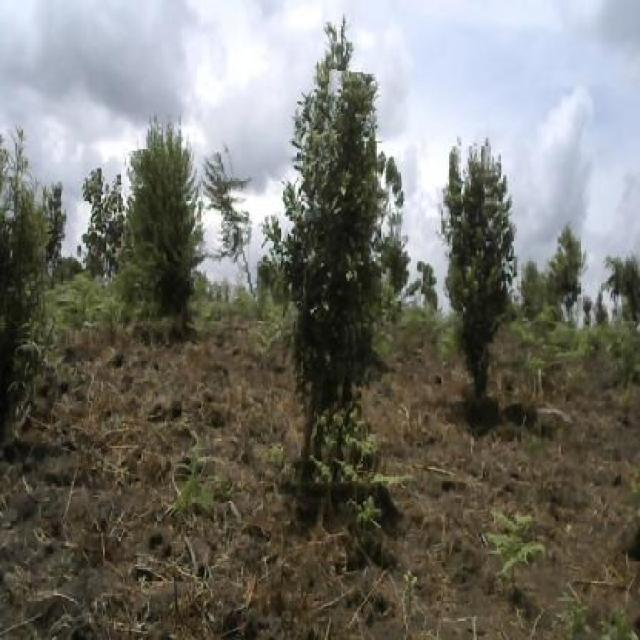tree trunk: (292, 70, 370, 499), (452, 146, 496, 429), (132, 146, 190, 346), (204, 152, 251, 316), (557, 223, 577, 351)
